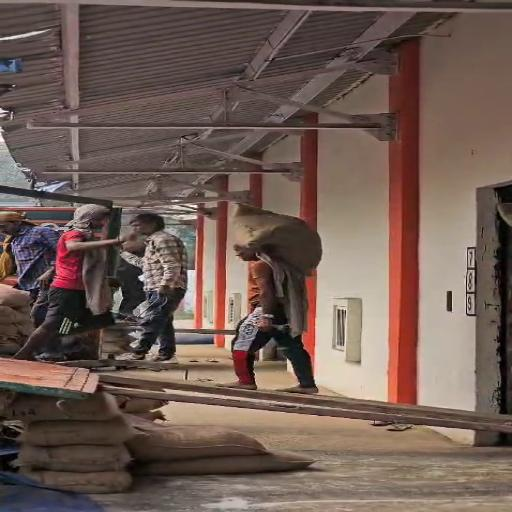bag: (220, 197, 338, 279)
